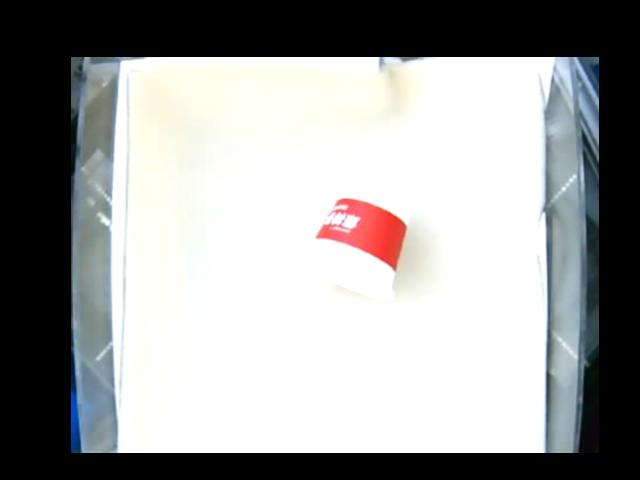Cup: (301, 177, 409, 300)
